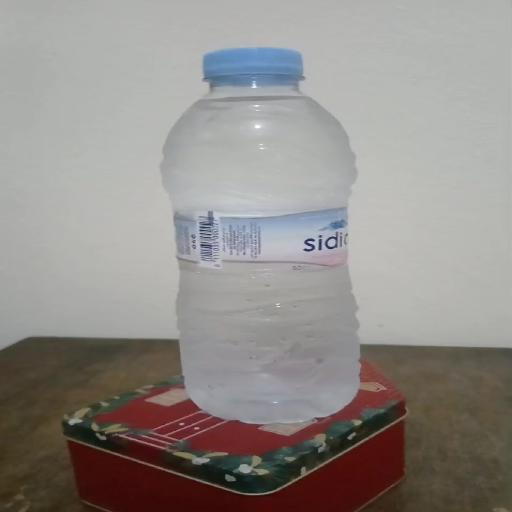bouteille conformite: (168, 29, 365, 423)
